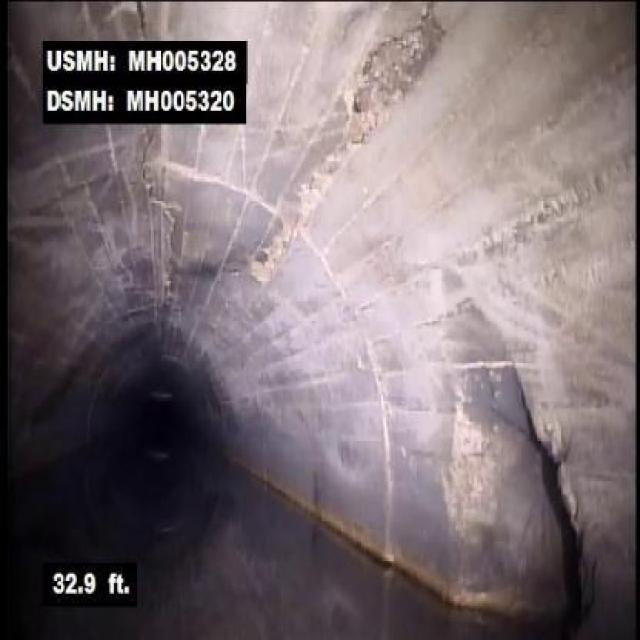Buckling: (108, 3, 162, 39)
Crack: (137, 126, 181, 263)
Hole: (338, 3, 454, 151)
